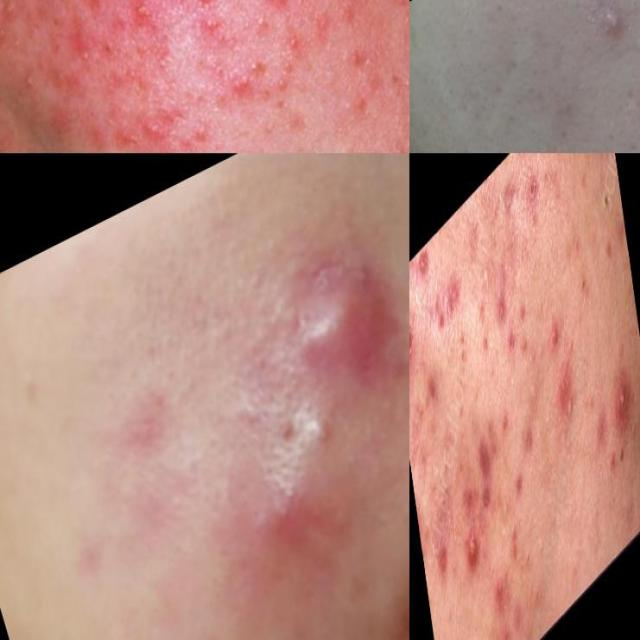acne_scars: (544, 338, 586, 460), (432, 256, 471, 342), (409, 298, 431, 428)
comedone: (523, 539, 538, 578)
cystic: (279, 238, 407, 401), (243, 469, 345, 607)
papule: (466, 406, 504, 527), (223, 53, 259, 115), (140, 100, 180, 153), (126, 0, 173, 45), (175, 106, 215, 153), (412, 234, 438, 297), (258, 0, 305, 23), (494, 564, 514, 609), (546, 310, 564, 360), (26, 0, 62, 16), (495, 626, 512, 640)
pustule: (305, 408, 351, 468), (458, 518, 486, 587), (597, 0, 632, 47), (615, 366, 635, 419), (0, 0, 19, 32)
